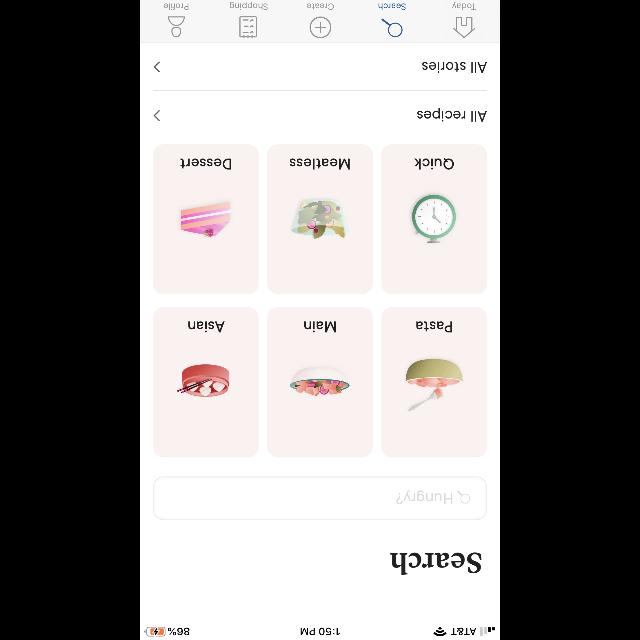icon: (310, 16, 330, 38), (453, 17, 475, 37), (168, 16, 186, 38), (382, 19, 402, 37), (240, 16, 256, 38), (456, 491, 469, 504), (154, 110, 160, 122), (154, 62, 160, 72)
image: (153, 307, 259, 457), (154, 144, 258, 294), (268, 144, 372, 294), (382, 144, 486, 294), (268, 307, 372, 457), (382, 307, 486, 457)
input: (154, 476, 486, 520)
text: (390, 552, 482, 576), (418, 108, 487, 122), (396, 490, 452, 504), (422, 62, 486, 74), (290, 158, 350, 170), (180, 158, 232, 170), (414, 158, 454, 170), (188, 322, 224, 332), (416, 322, 452, 332), (304, 322, 336, 332), (230, 2, 268, 10), (452, 2, 476, 10), (378, 4, 406, 10), (307, 4, 333, 10), (164, 4, 188, 10)
uppertaskbar: (140, 626, 500, 640)
